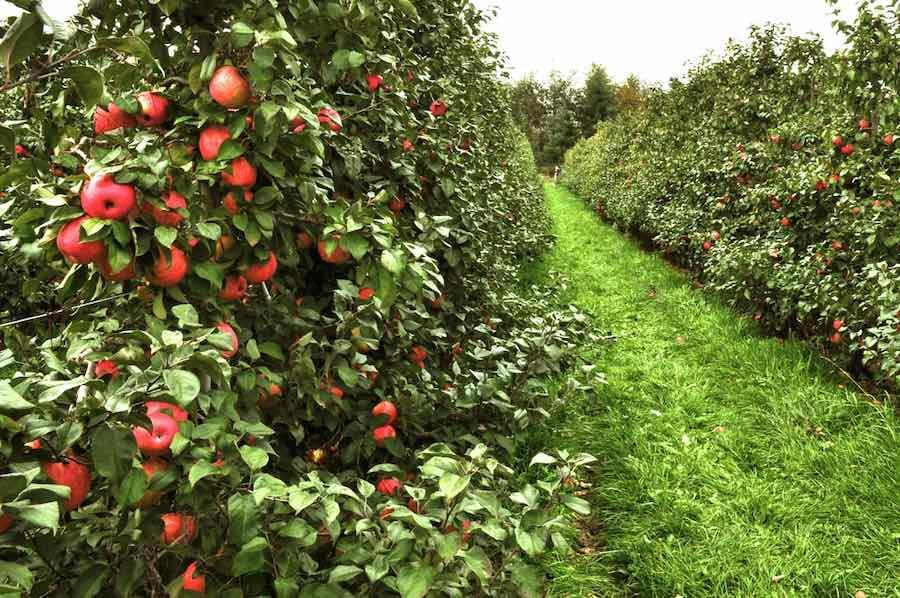apple: (79, 172, 134, 220), (56, 221, 106, 266), (46, 457, 91, 505), (207, 64, 251, 110), (130, 414, 179, 455), (92, 91, 134, 133), (150, 246, 189, 285), (133, 91, 172, 126), (315, 236, 350, 263), (245, 255, 275, 282)
